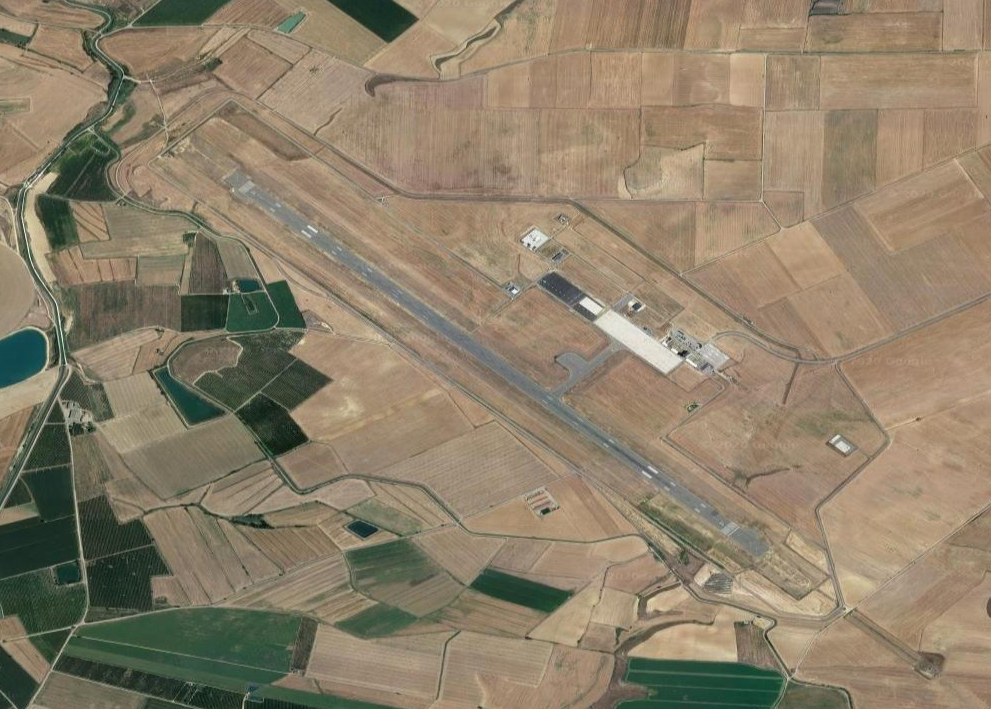airport: (215, 164, 773, 565)
motorway: (16, 226, 61, 319), (13, 140, 58, 227), (57, 85, 118, 148), (39, 318, 76, 417), (1, 408, 37, 507), (88, 28, 124, 82)
